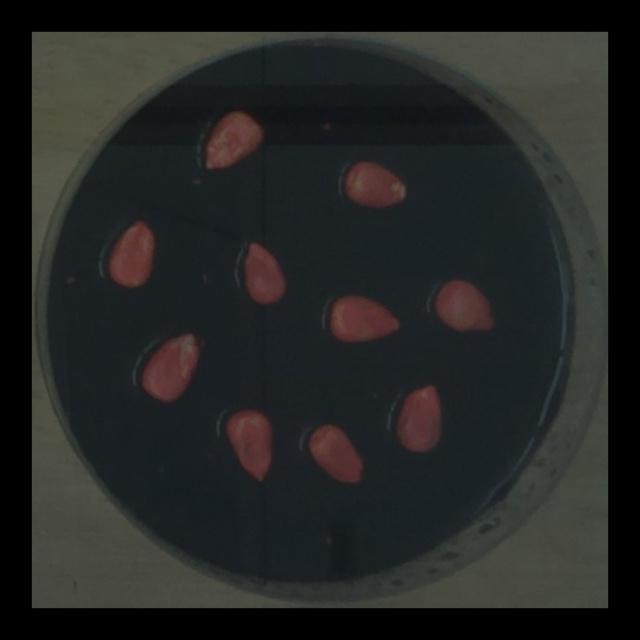Zea mays: (134, 325, 206, 410), (196, 104, 269, 176), (321, 289, 407, 349), (219, 402, 278, 488), (301, 417, 369, 489), (427, 271, 500, 338), (101, 214, 162, 293), (390, 378, 447, 459), (338, 155, 411, 214), (238, 237, 292, 311)
